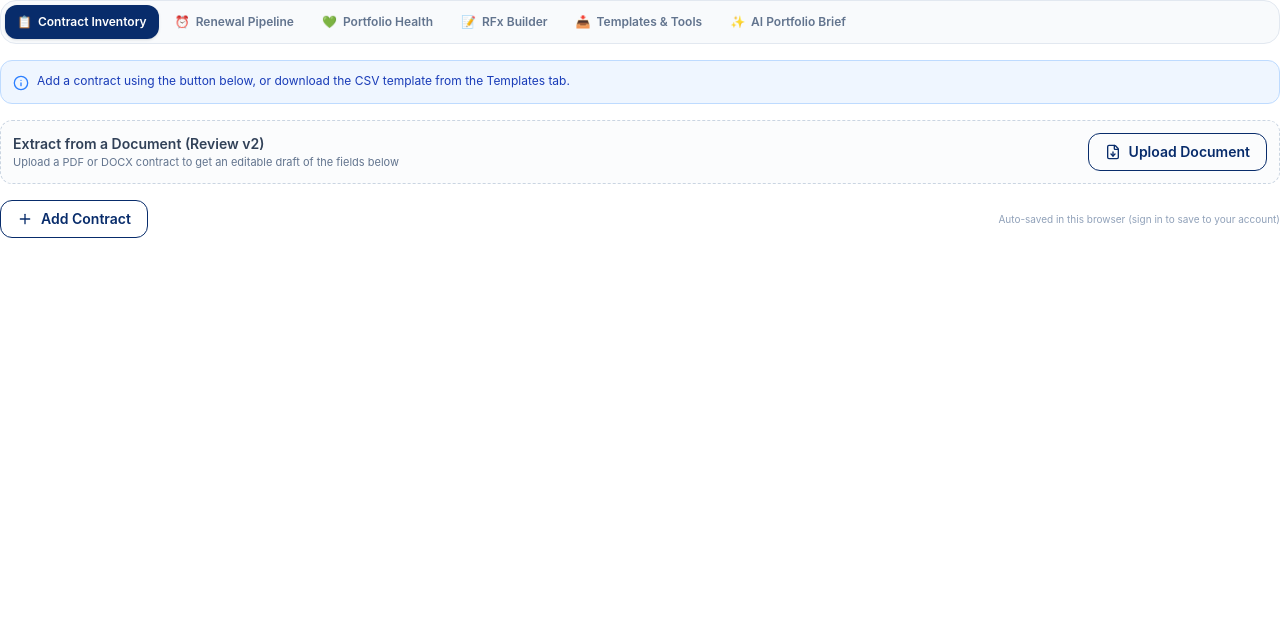
it: #385 UNSPSC Class/Commodity searchable lookup › picking a commodity result sets family+class+commodity and shows the confirmation chip
The width and height of the screenshot is (1280, 641).
Click the button "Add Contract" at (74, 219), box [0, 200, 148, 238]
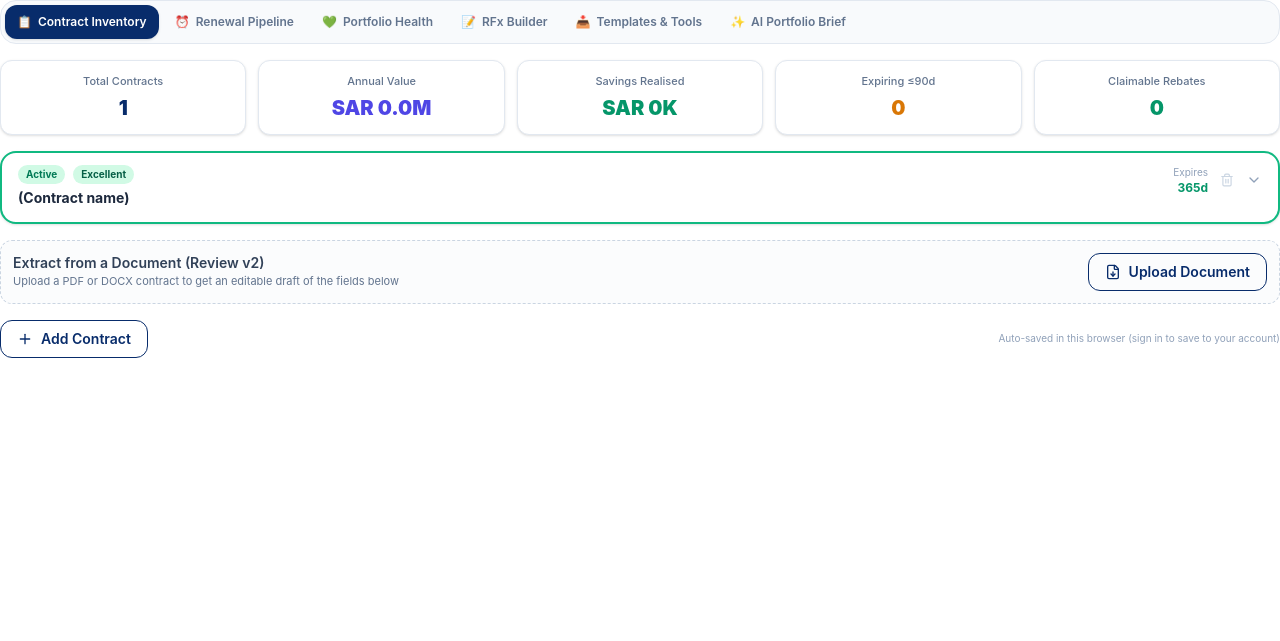
Click the text "(Contract name)" at (74, 197), box [18, 188, 130, 206]
(page scrolled)
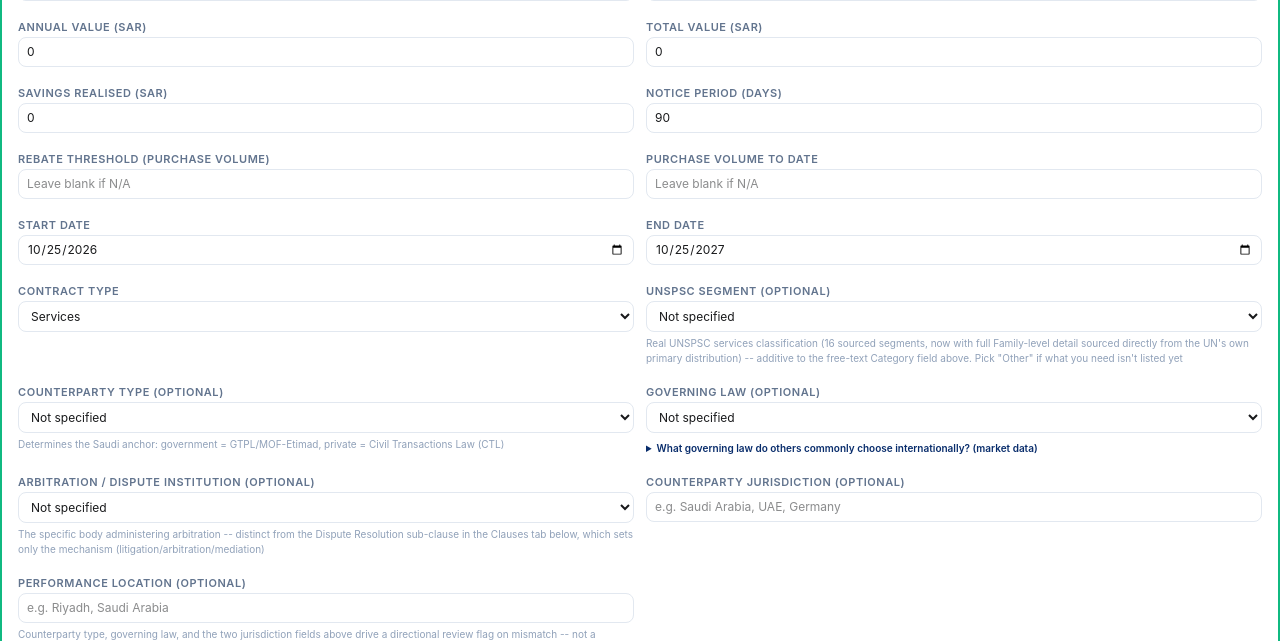
Select "80 -- Management, Business Professionals and Administrative Services" in the dropdown labelled "UNSPSC Segment (optional)" at (954, 316), box [646, 300, 1262, 332]
(page scrolled)
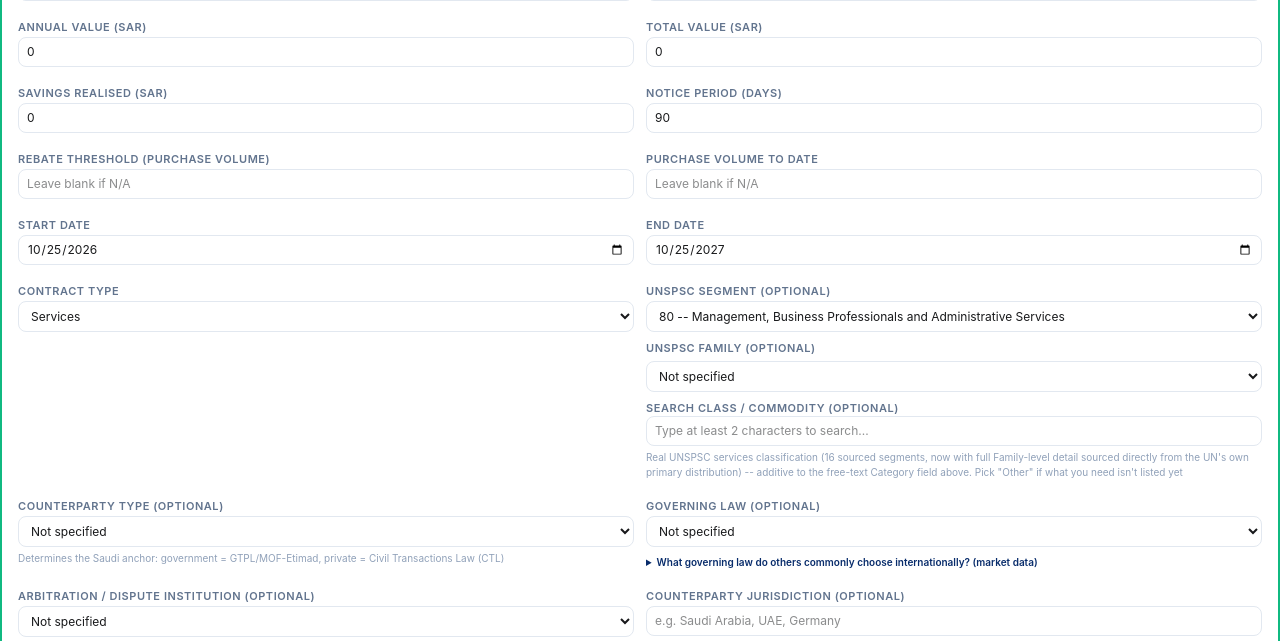
Type "Staff recruiting services" into the field labelled "Search Class / Commodity (optional)" at (954, 431), box [646, 416, 1262, 446]
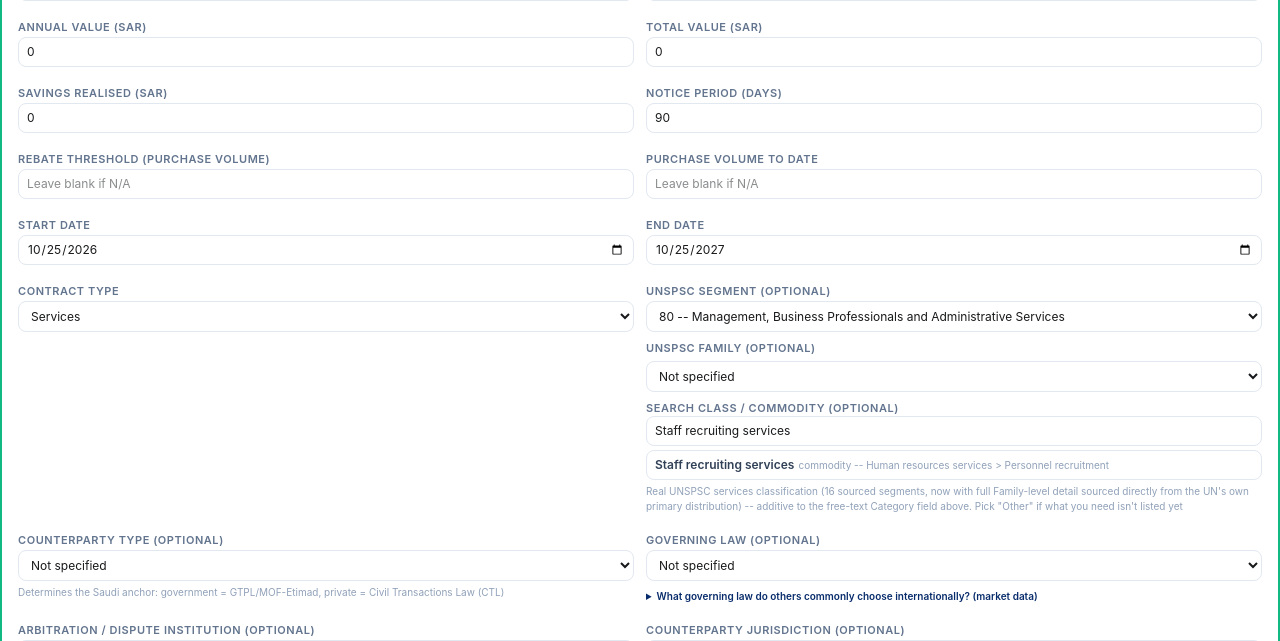
Click the text "Staff recruiting services" at (725, 464), box [655, 457, 794, 472]
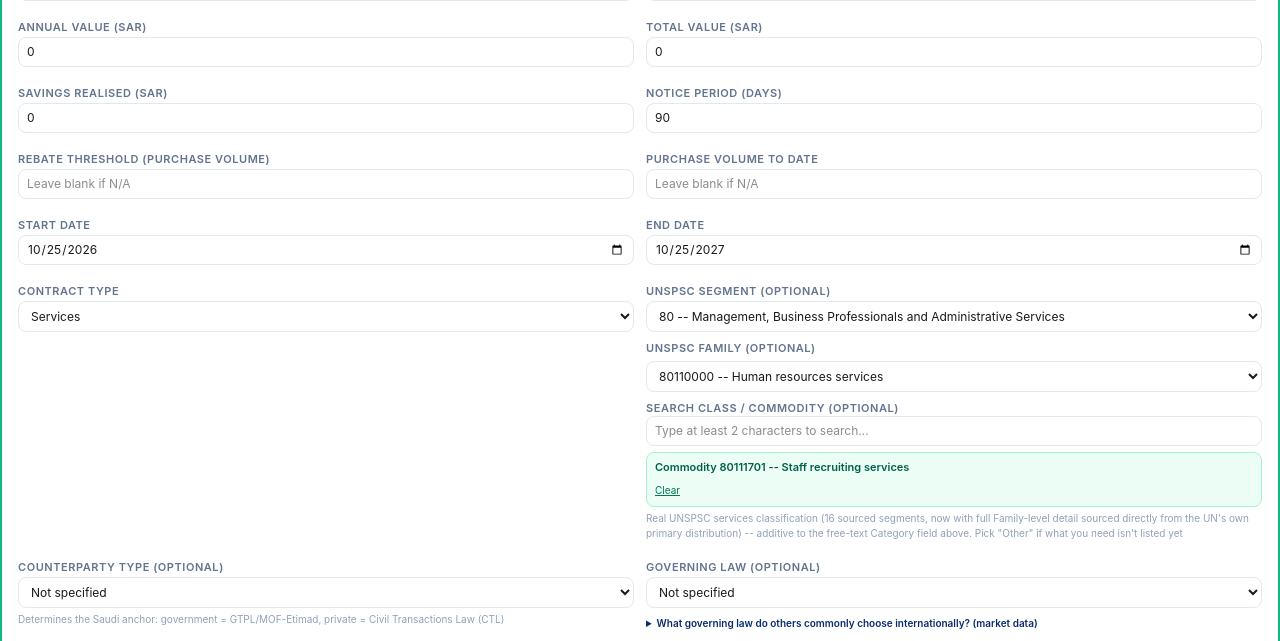
Now the field labelled "Search Class / Commodity (optional)" is empty, box [646, 416, 1262, 446]
Now the text "Commodity 80111701 -- Staff recruiting services" is shown, box [655, 460, 909, 474]
Now the dropdown labelled "UNSPSC Family (optional)" shows "80110000 -- Human resources services", box [646, 360, 1262, 392]
